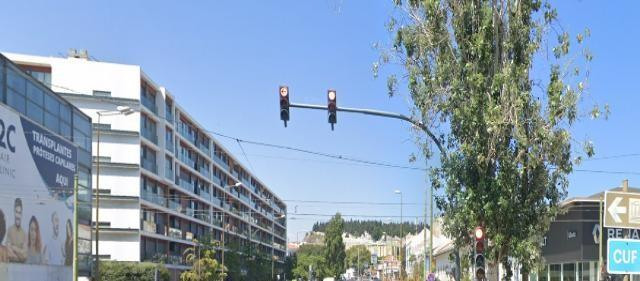red_light: (475, 227, 484, 281), (280, 87, 289, 120), (328, 91, 337, 123)
